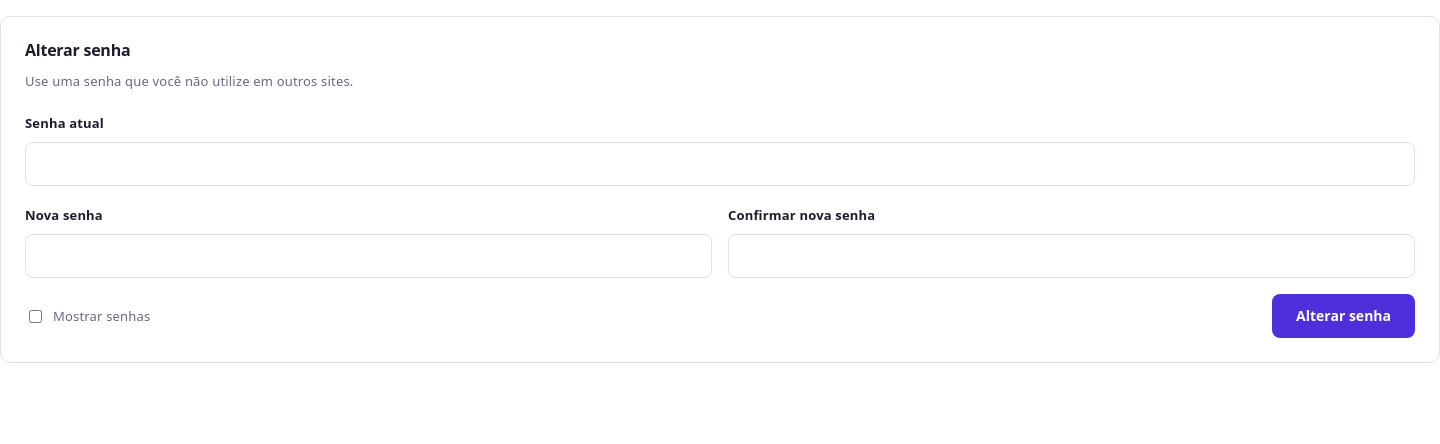
it: FormularioSenha › valida os campos antes de enviar
Step 1. Click the button "Alterar senha" → (1344, 316), box [1272,294,1415,338]
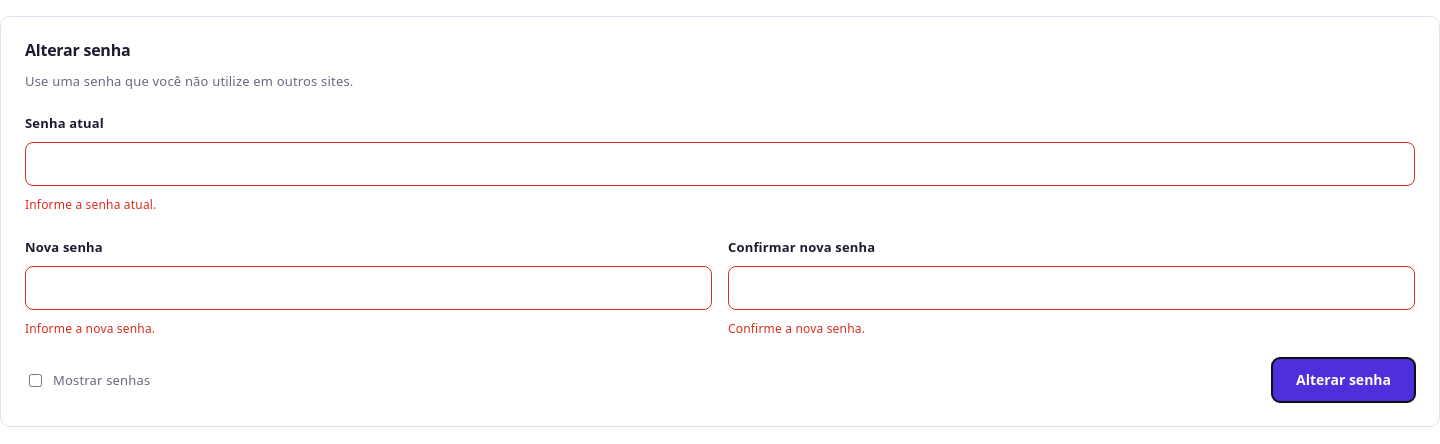
Expected: the text "Informe a senha atual." is shown, [25,196,156,213]
Expected: the text "Informe a nova senha." is shown, [25,320,155,337]
Step 2. Type "atual123" into the password field labelled "Senha atual" → (720, 164), box [25,142,1415,186]
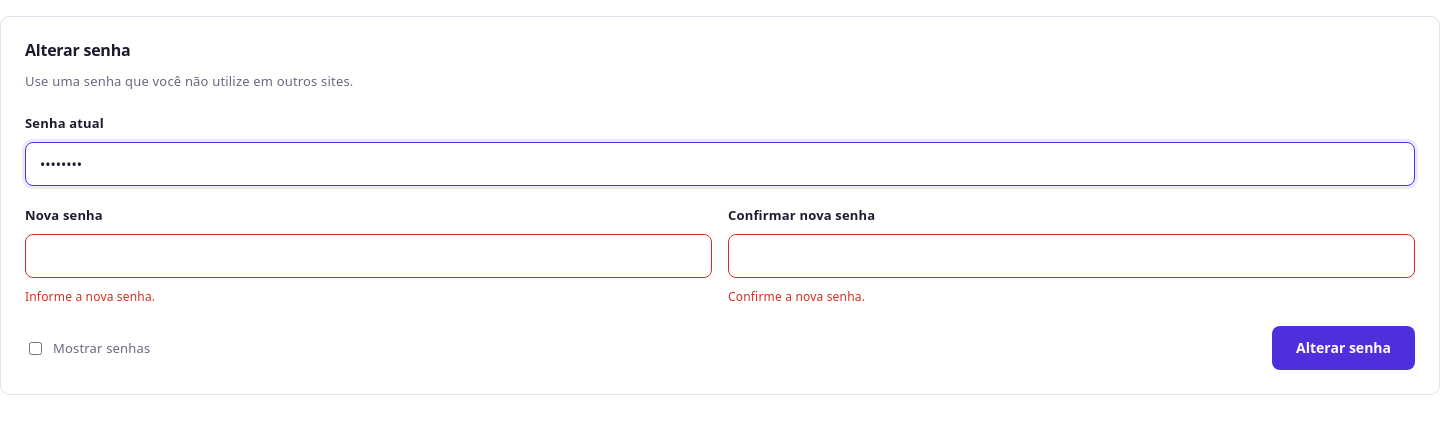
Step 3. Type "123" into the password field labelled "Nova senha" → (368, 256), box [25,234,712,278]
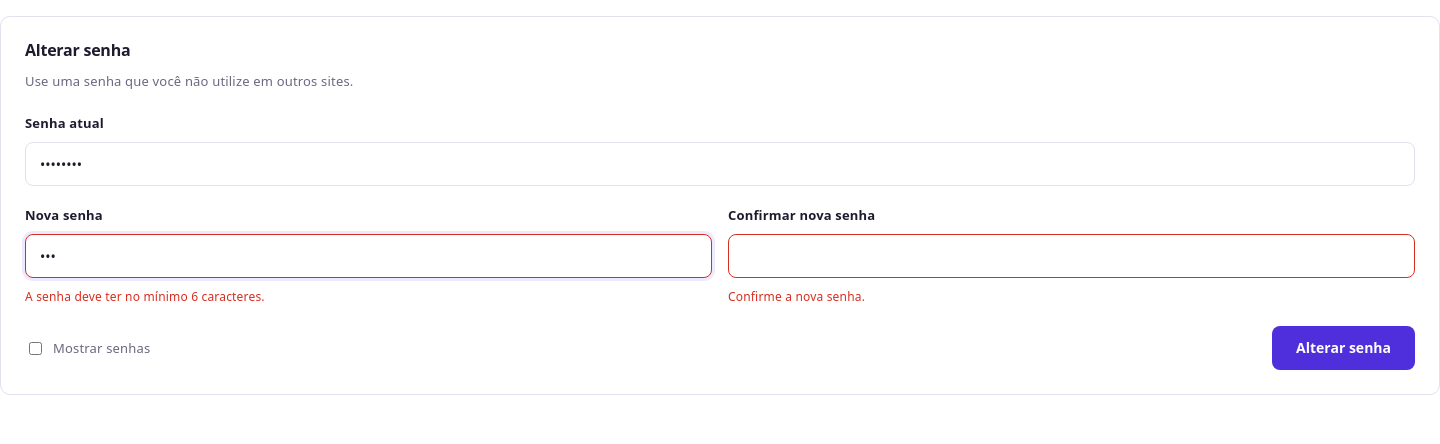
Step 4. Type "456" into the password field labelled "Confirmar nova senha" → (1072, 256), box [728,234,1415,278]
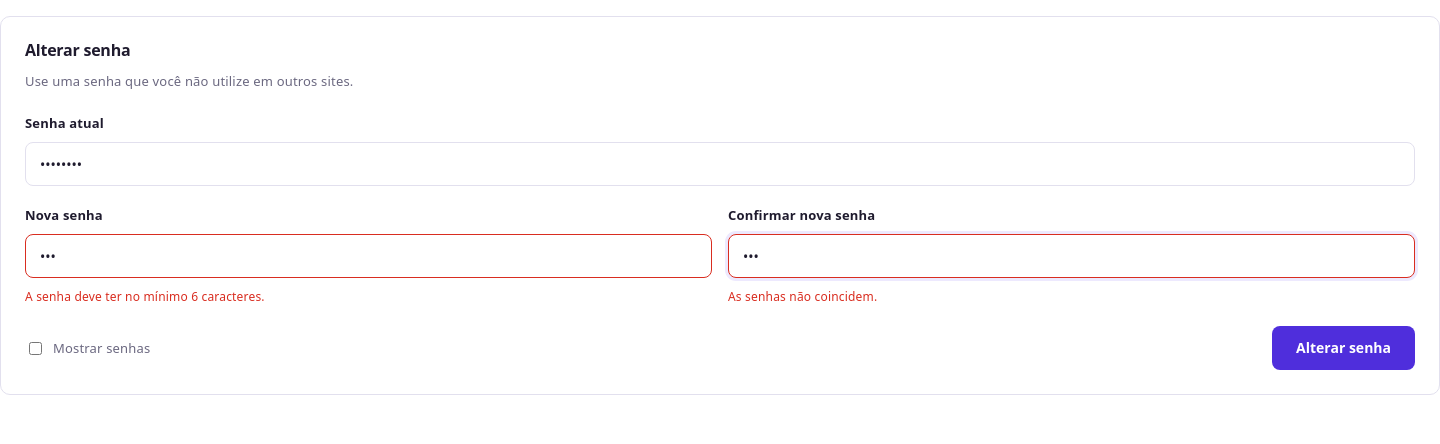
Expected: the text "A senha deve ter no mínimo 6 caracteres." is shown, [25,288,265,305]
Expected: the text "As senhas não coincidem." is shown, [728,288,877,305]
